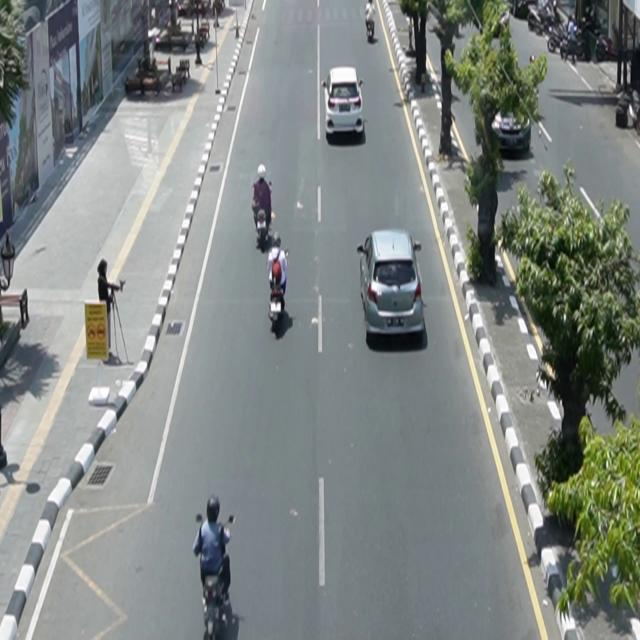car: (357, 229, 426, 342), (322, 66, 365, 138)
